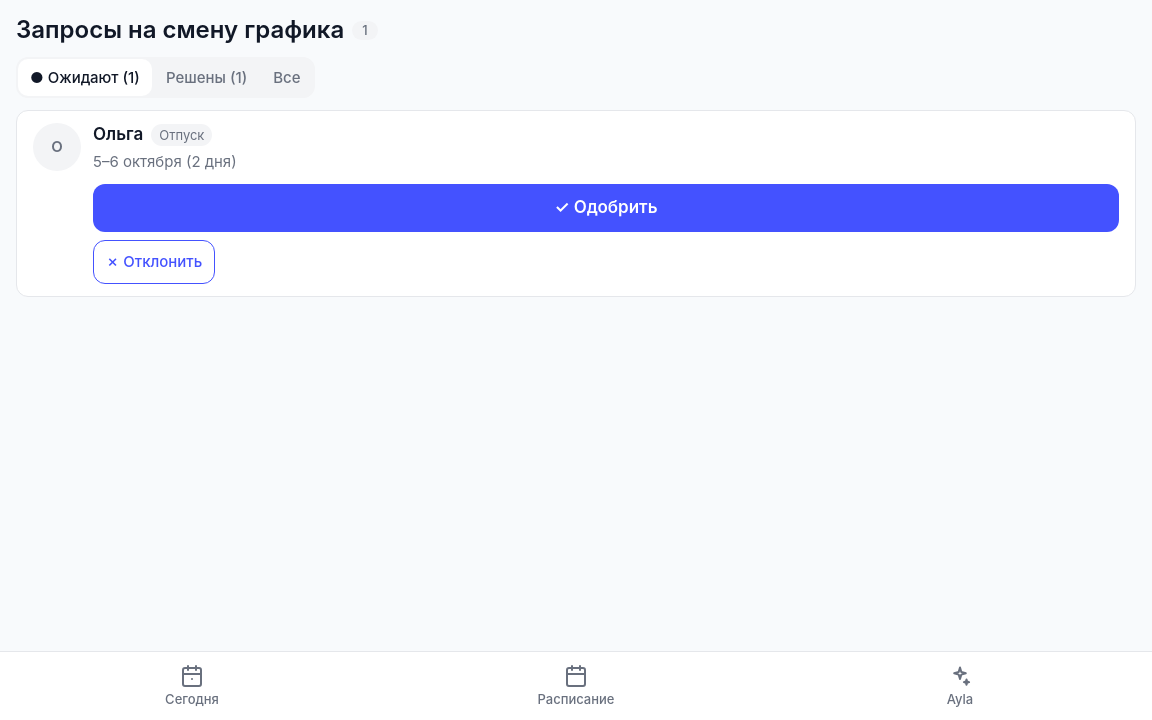
Test: пересечение с расписанием — фраза владельца (§6-кси п.5, DRF-2577) › дат нет — ровно фраза владельца, серверный detail не показан
The width and height of the screenshot is (1152, 720).
Expected: the text "Ольга" is shown, x1=93 y1=123 x2=143 y2=147
Step 1. Click the button "✓ Одобрить" → (606, 208), box x1=93 y1=184 x2=1119 y2=232
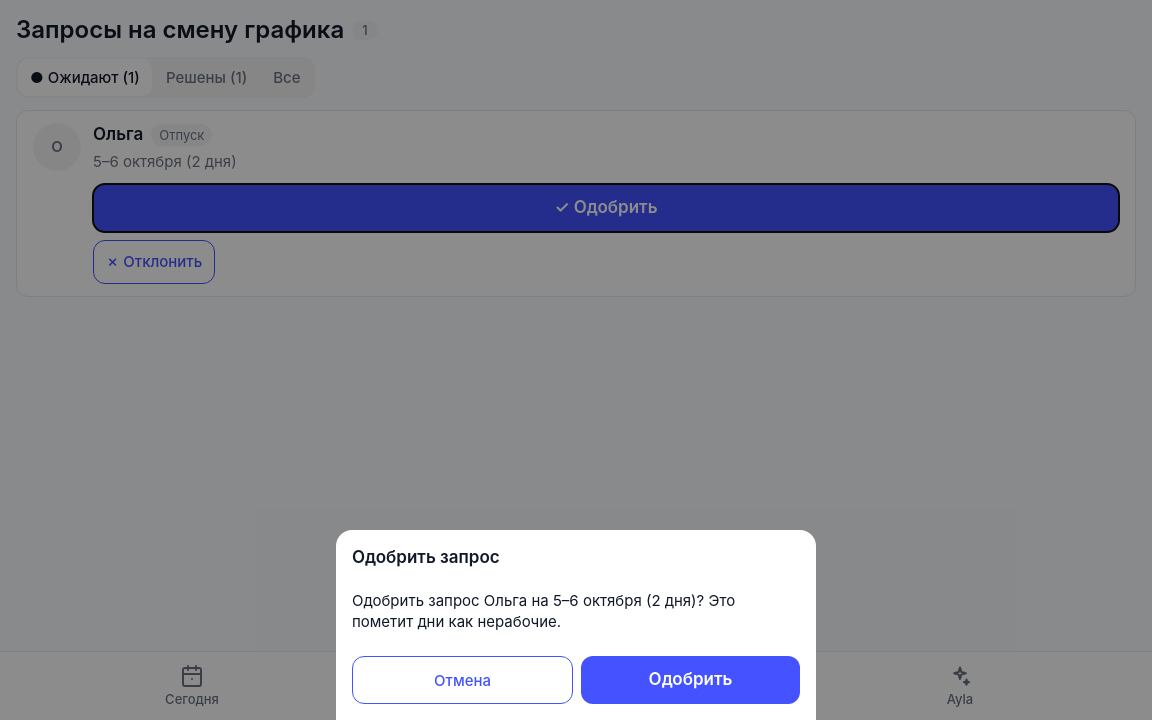
Step 2. Click the button "Одобрить" → (690, 680), box x1=581 y1=656 x2=800 y2=704
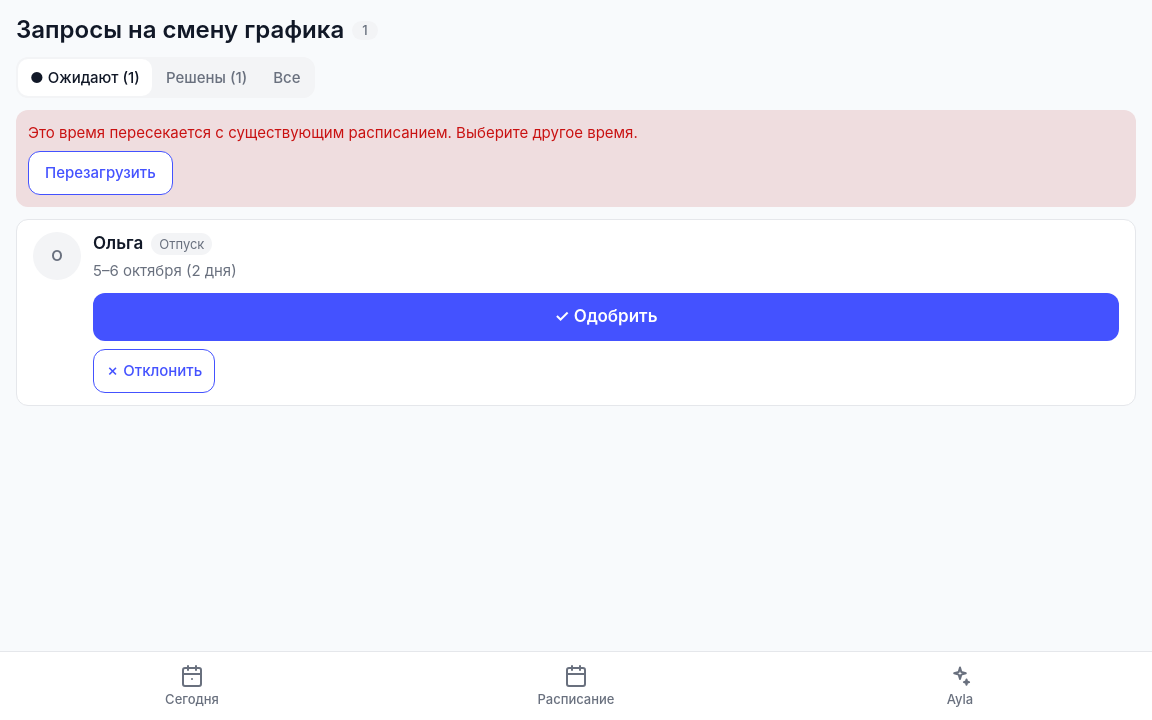
Expected: the message does not show "overlaps approved override on 2026-10-06", x1=16 y1=110 x2=1136 y2=207
Expected: the text "Это время пересекается с существующим расписанием. Выберите другое время." is shown, x1=28 y1=123 x2=638 y2=142
